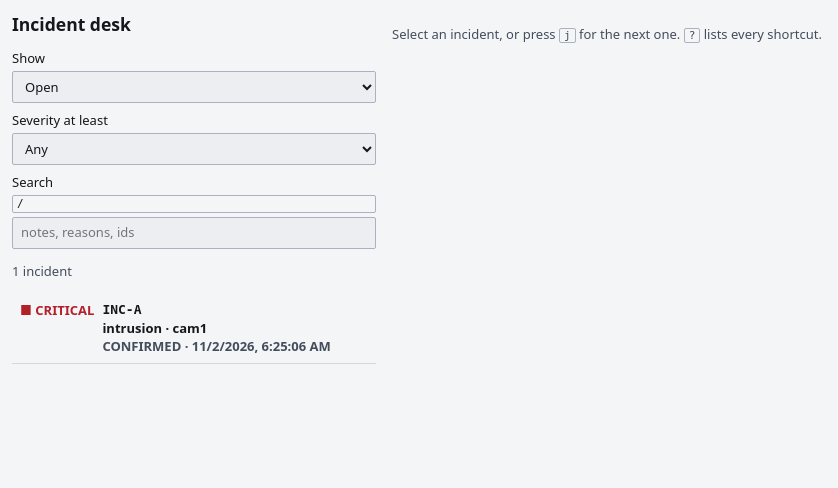
Test: the queue › keeps the last list on screen and says so when a refresh fails
Check: the text "INC-A" is shown, box [102,302,142,317]
Select "All" in the dropdown labelled "Show" at (194, 87), box [12,71,376,103]
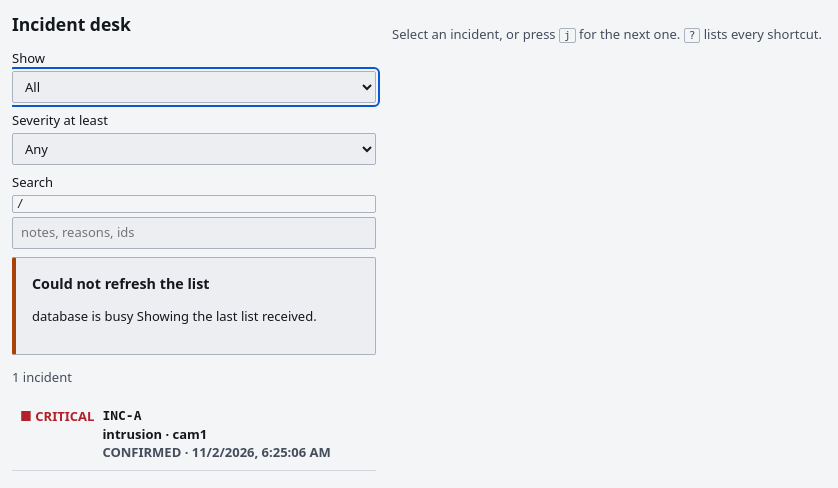
Check: the text "INC-A" is shown, box [102,408,142,423]
Check: the message "Could not refresh the list database is busy Showing the last list received." is shown, box [12,257,376,355]
